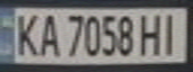0: (81, 11, 103, 57)
5: (100, 11, 121, 56)
7: (63, 11, 84, 57)
8: (115, 11, 139, 57)
A: (36, 10, 60, 57)
H: (136, 10, 163, 56)
I: (157, 10, 184, 55)
K: (9, 9, 42, 57)
